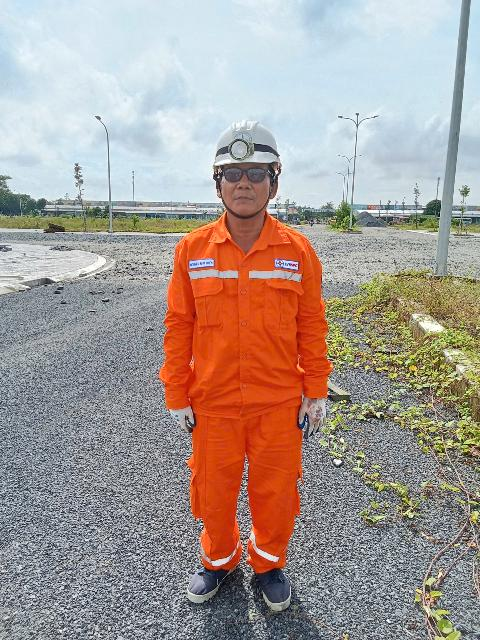gloves: (281, 389, 338, 434), (159, 398, 198, 438)
helmet: (208, 95, 293, 189)
shoes: (175, 546, 248, 610), (243, 554, 303, 617)
